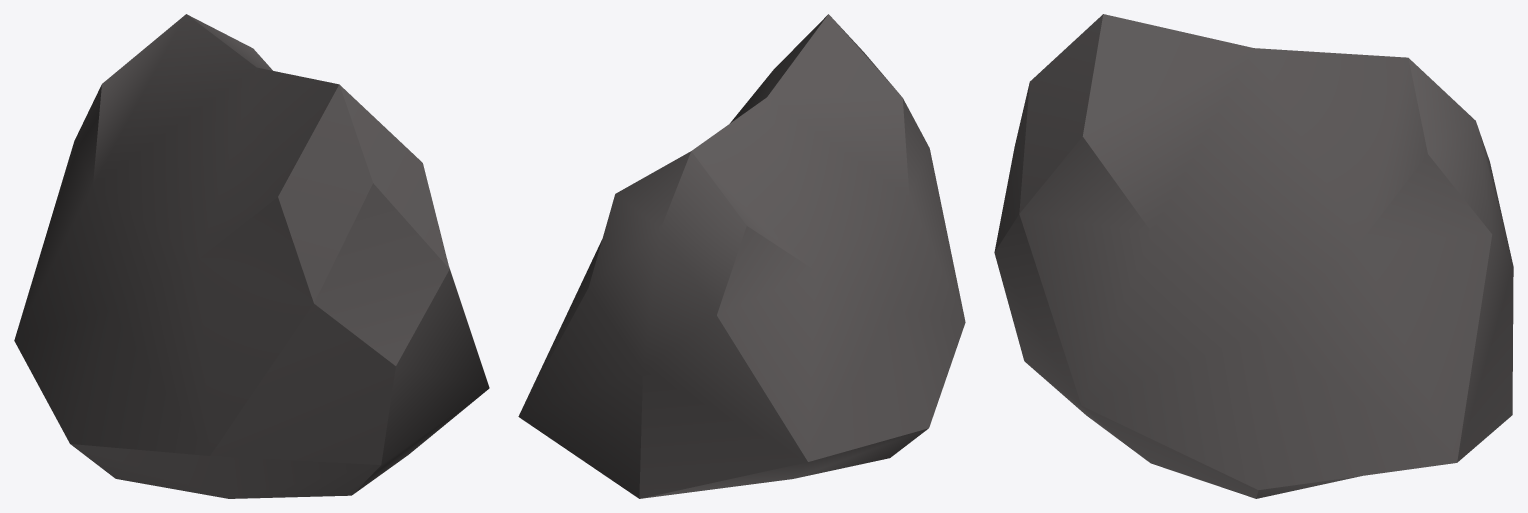
File: Rock1.obj
3 views of the same model, side by side, from view 1: azimuth 30°, elevation 25°; view 2: azimuth 150°, elevation 25°; view 3: azimuth 270°, elevation 25° (orthographic). The views are drawn at different scales.
Parts seen in each view (by area): view 1: rock.001; view 2: rock.001; view 3: rock.001.
Part boxes in pixels (box(x1,y1,x2,y2)): rock.001: box(14, 14, 489, 498); rock.001: box(518, 14, 965, 498); rock.001: box(994, 14, 1513, 498).
Size of the model in its own units: 8.41 by 8.48 by 9.57.
Materials: 1 (1 with a texture image).
